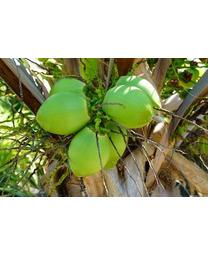coconut: (33, 90, 99, 137), (67, 122, 114, 176), (100, 85, 155, 128), (49, 76, 98, 110)
